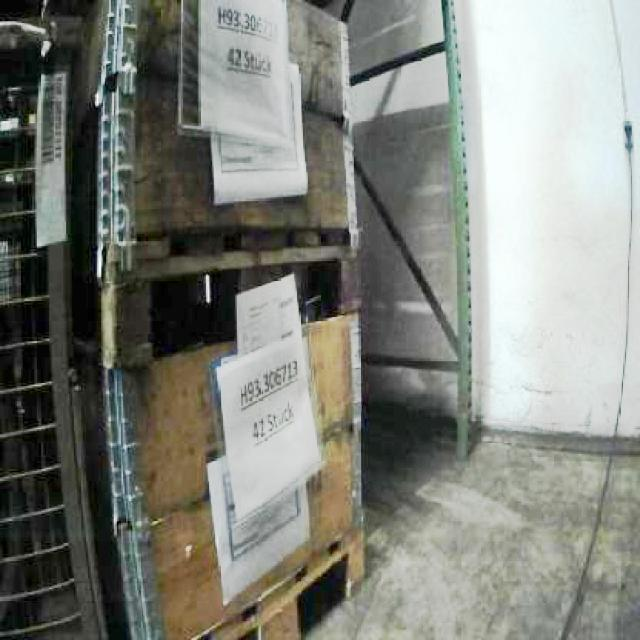ground: (291, 423, 638, 638)
pallet: (89, 0, 369, 638), (0, 14, 109, 638)
